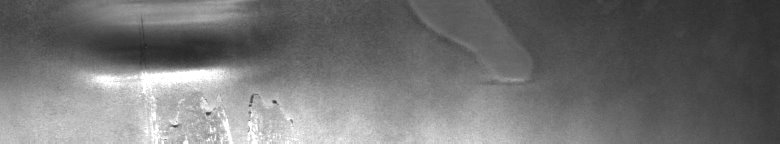ke: (92, 20, 293, 136)
